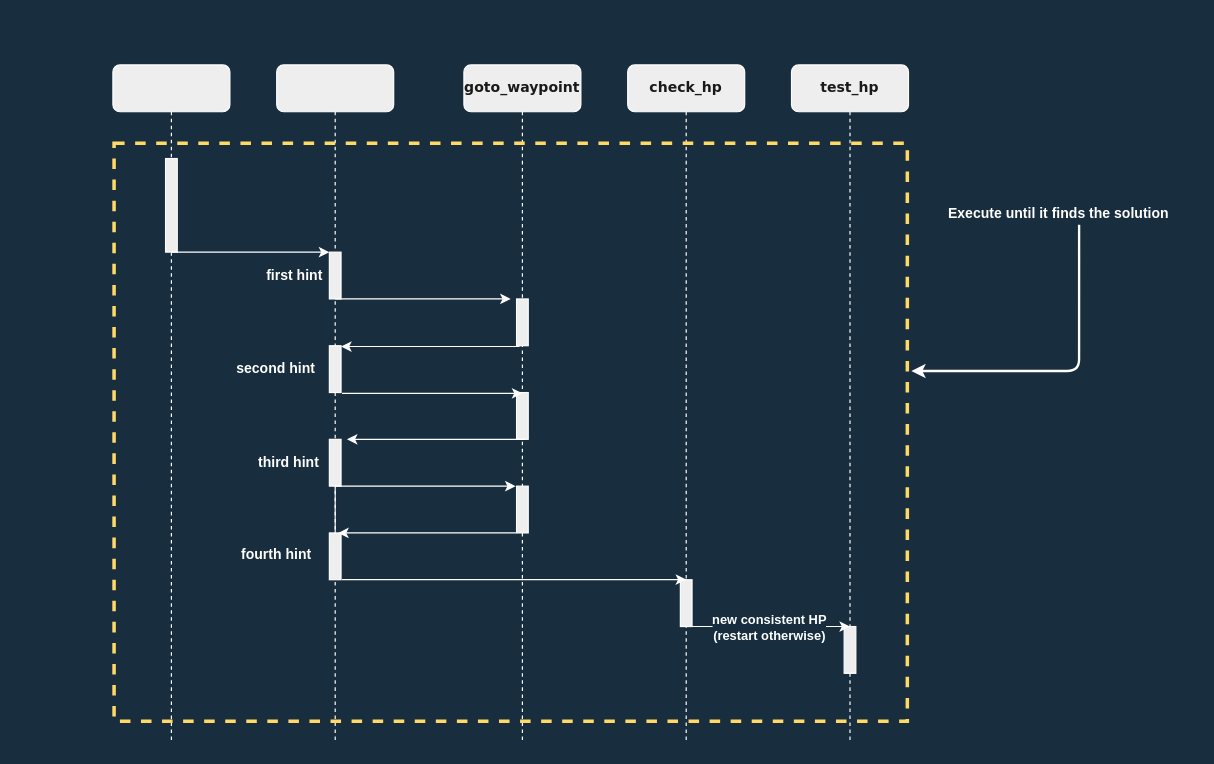
The diagram is 1214 pixels wide and 764 high, and some of its shapes have lost their labels. Here are the shapes that lost their labels. From the top down, the box of each, then its label:
(112, 64, 230, 744): initialize
(276, 64, 394, 744): take_hint
